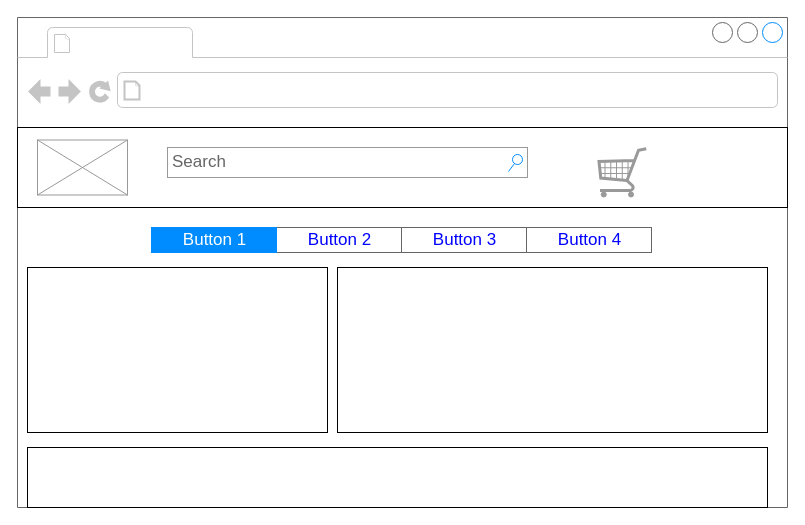
Some shapes in this 805 by 525 pixel diagram are drawn without their labels. The shapes that lost their labels are listed below. From the top down, each one's centre as x and y in pixels, then its label:
point (132, 42): Page 1
point (272, 90): https://www.draw.io
